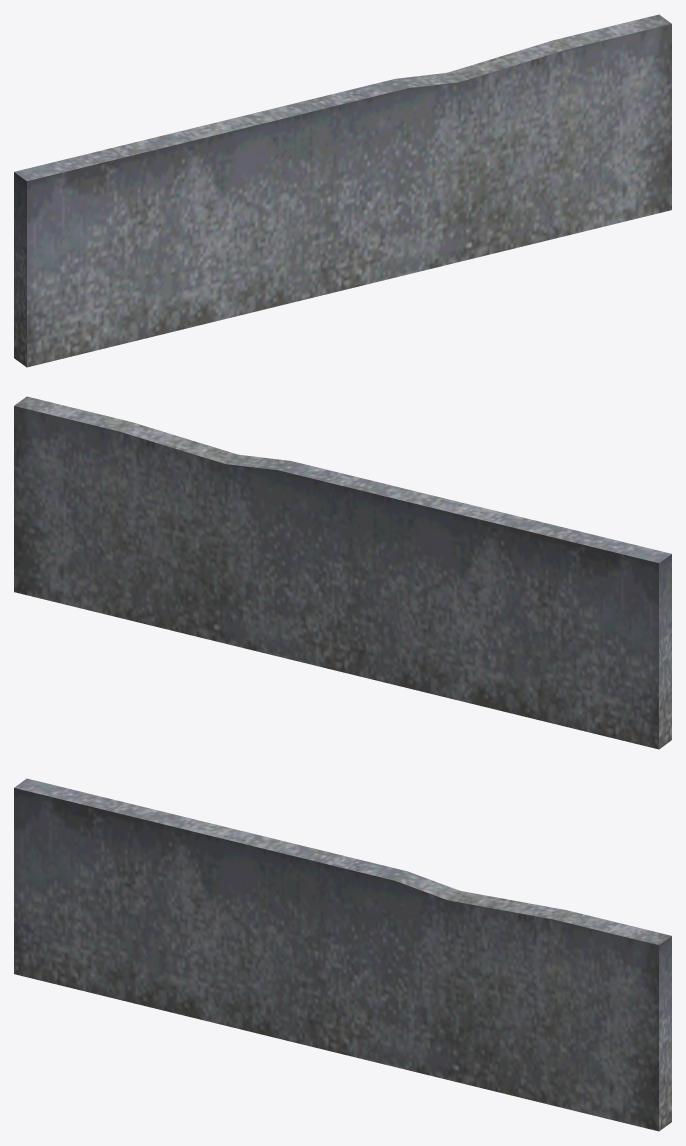
Rendered from Urban_PlackardSlabChipped_Model.fbx.
3 renders of one model, top to bottom at view 1: azimuth 30°, elevation 25°; view 2: azimuth 150°, elevation 25°; view 3: azimuth 330°, elevation 25°, orthographic.
Parts seen in each view (by area): view 1: Urban_PlackardSlabChipped_Mesh; view 2: Urban_PlackardSlabChipped_Mesh; view 3: Urban_PlackardSlabChipped_Mesh.
Part boxes in pixels (x1,y1,x2,y2): Urban_PlackardSlabChipped_Mesh: (14,14,671,367); Urban_PlackardSlabChipped_Mesh: (14,396,671,749); Urban_PlackardSlabChipped_Mesh: (14,778,671,1131).
Size of the model in its own units: 2.9 by 0.8 by 0.1.
